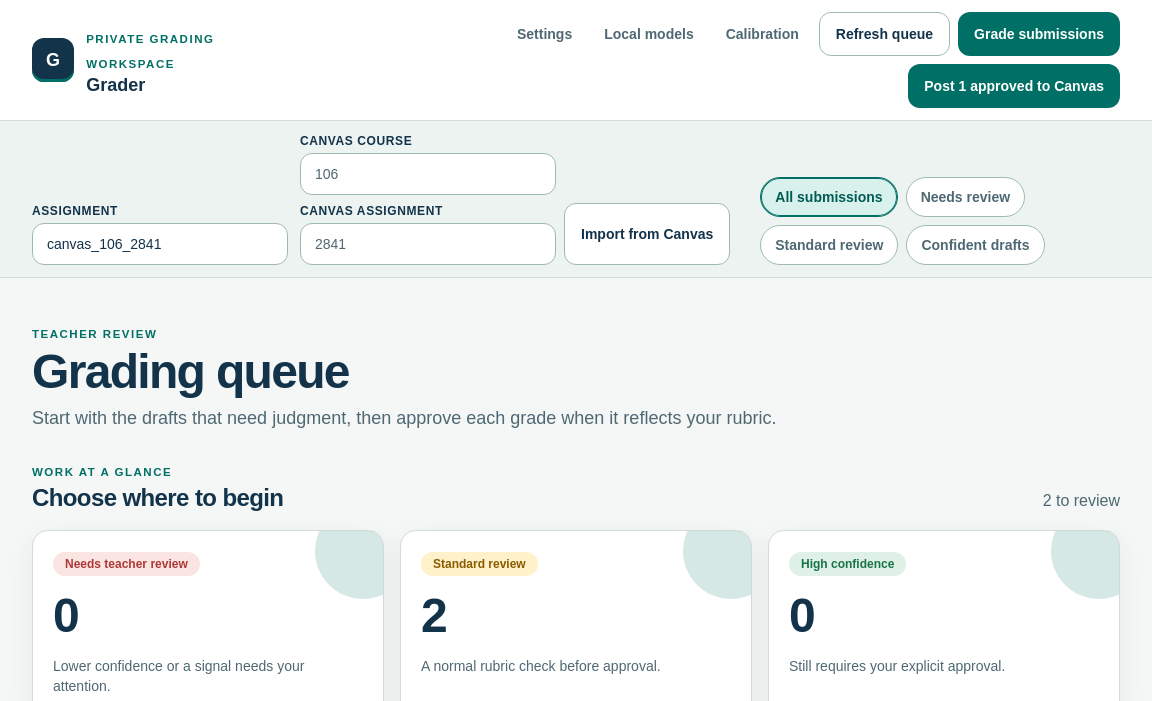
Test: posting approved grades to Canvas › shows a per-student receipt after posting
Click the button "Post 1 approved to Canvas".
click(1014, 86)  # box [908,64,1120,108]
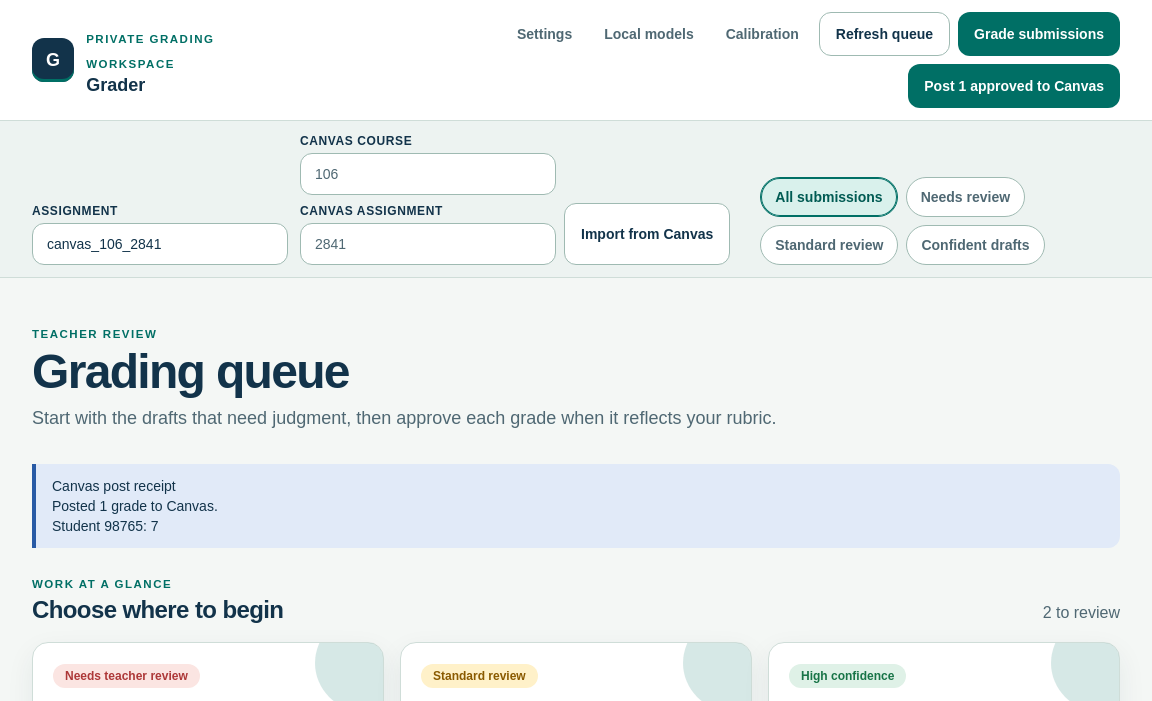
Check: the list item "Posted 1 grade to Canvas." is shown, box [52,496,218,516]
Check: the list item "Student 98765: 7" is shown, box [52,518,159,534]
